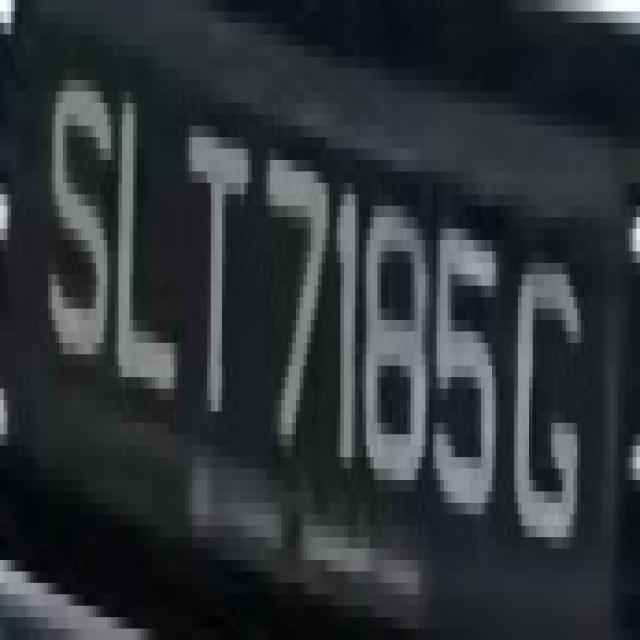1: (337, 92, 370, 514)
5: (425, 206, 496, 571)
7: (256, 91, 330, 480)
8: (370, 172, 444, 537)
G: (514, 194, 596, 560)
L: (114, 57, 188, 457)
S: (44, 0, 115, 400)
T: (170, 34, 270, 434)
